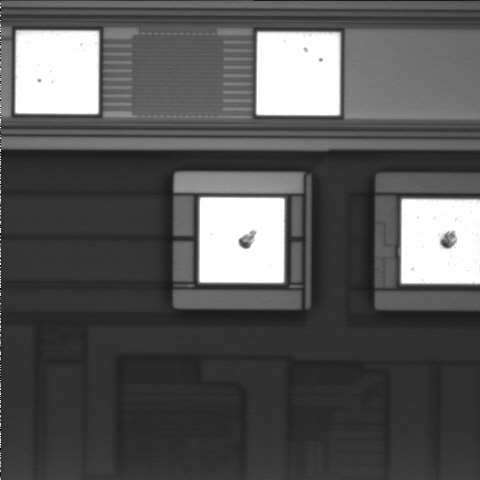pad: (199, 197, 285, 283), (15, 31, 99, 114), (256, 32, 340, 115)
